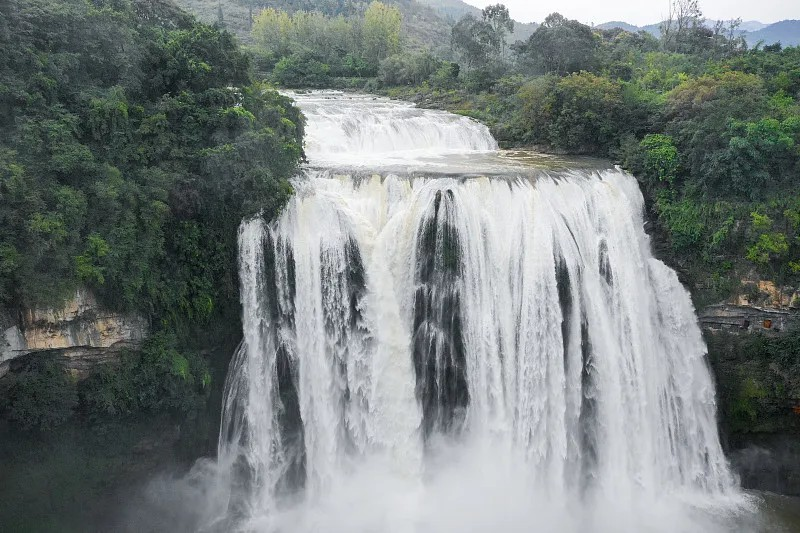Huangguoshu: (221, 88, 757, 514)
